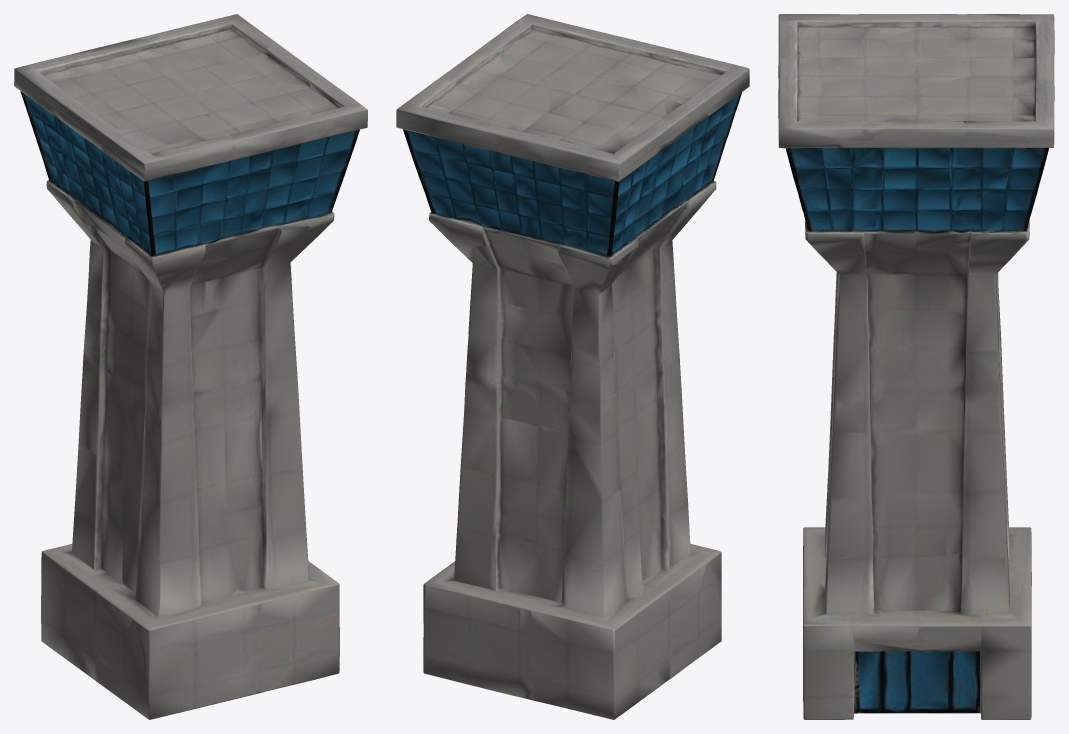
The model's file is controlTower.glb.
The picture shows the model from 3 angles, left to right: view 1: azimuth 30°, elevation 25°; view 2: azimuth 150°, elevation 25°; view 3: azimuth 270°, elevation 25°; orthographic projection. The views are drawn at different scales.
Visible parts, largest first — view 1: tripo_node_119657e0-5c23-4878-b43d-ade234cb3a67; view 2: tripo_node_119657e0-5c23-4878-b43d-ade234cb3a67; view 3: tripo_node_119657e0-5c23-4878-b43d-ade234cb3a67.
Part boxes in pixels (bbox=[...]): tripo_node_119657e0-5c23-4878-b43d-ade234cb3a67: bbox=[14, 14, 367, 719]; tripo_node_119657e0-5c23-4878-b43d-ade234cb3a67: bbox=[396, 14, 749, 719]; tripo_node_119657e0-5c23-4878-b43d-ade234cb3a67: bbox=[778, 14, 1054, 719].
Bounding box in the file's own units: 0.4112 × 0.9999 × 0.4166.
Materials: 1 (1 with a texture image).
